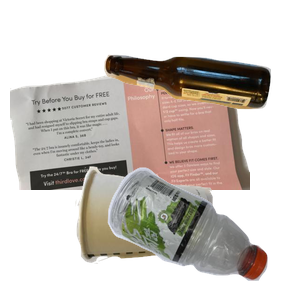glass: (101, 52, 300, 154)
paper: (10, 61, 250, 241)
plastic: (105, 165, 300, 300)
trash: (73, 164, 278, 300)
